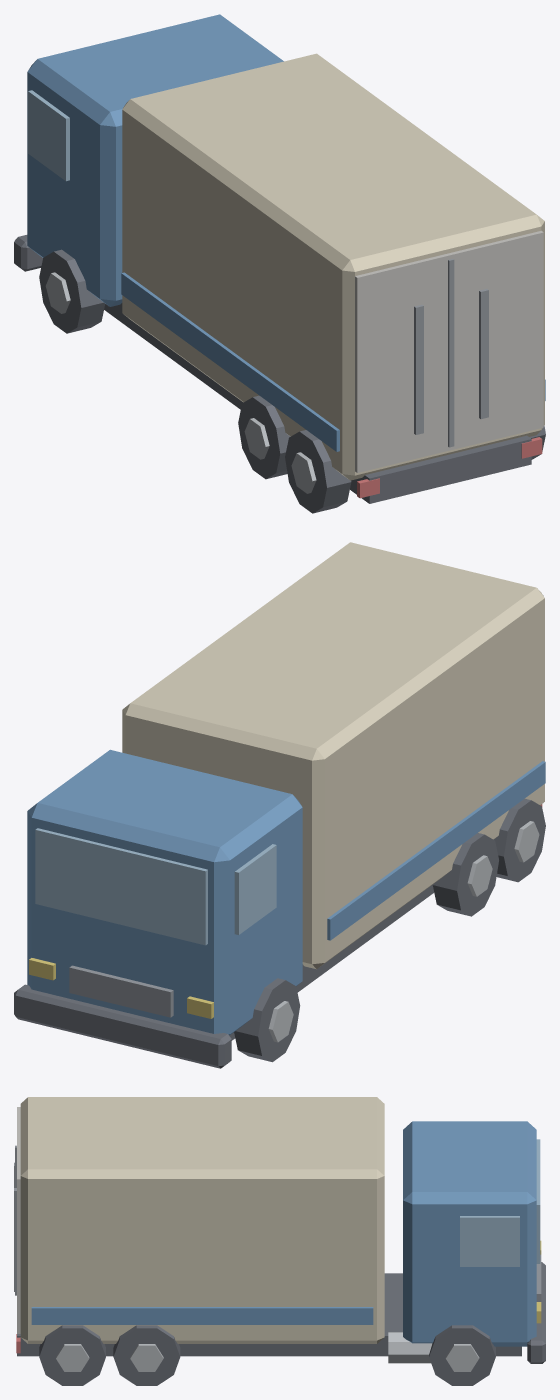
File: veiculos__caminhao.glb
3 renders of one model, top to bottom at view 1: azimuth 30°, elevation 25°; view 2: azimuth 150°, elevation 25°; view 3: azimuth 270°, elevation 25°, orthographic. The views are drawn at different scales.
Visible parts, largest first — view 1: veiculos__caminhao; view 2: veiculos__caminhao; view 3: veiculos__caminhao.
Boxes of the visible parts, x1,y1,x2,y2 form: veiculos__caminhao: [14, 14, 545, 513]; veiculos__caminhao: [14, 542, 545, 1068]; veiculos__caminhao: [14, 1097, 545, 1385].
Size of the model in its own units: 0.56 by 0.6256 by 1.43.
